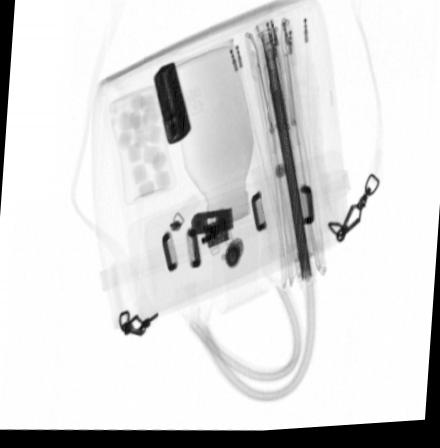Lighter: (154, 61, 191, 146)
